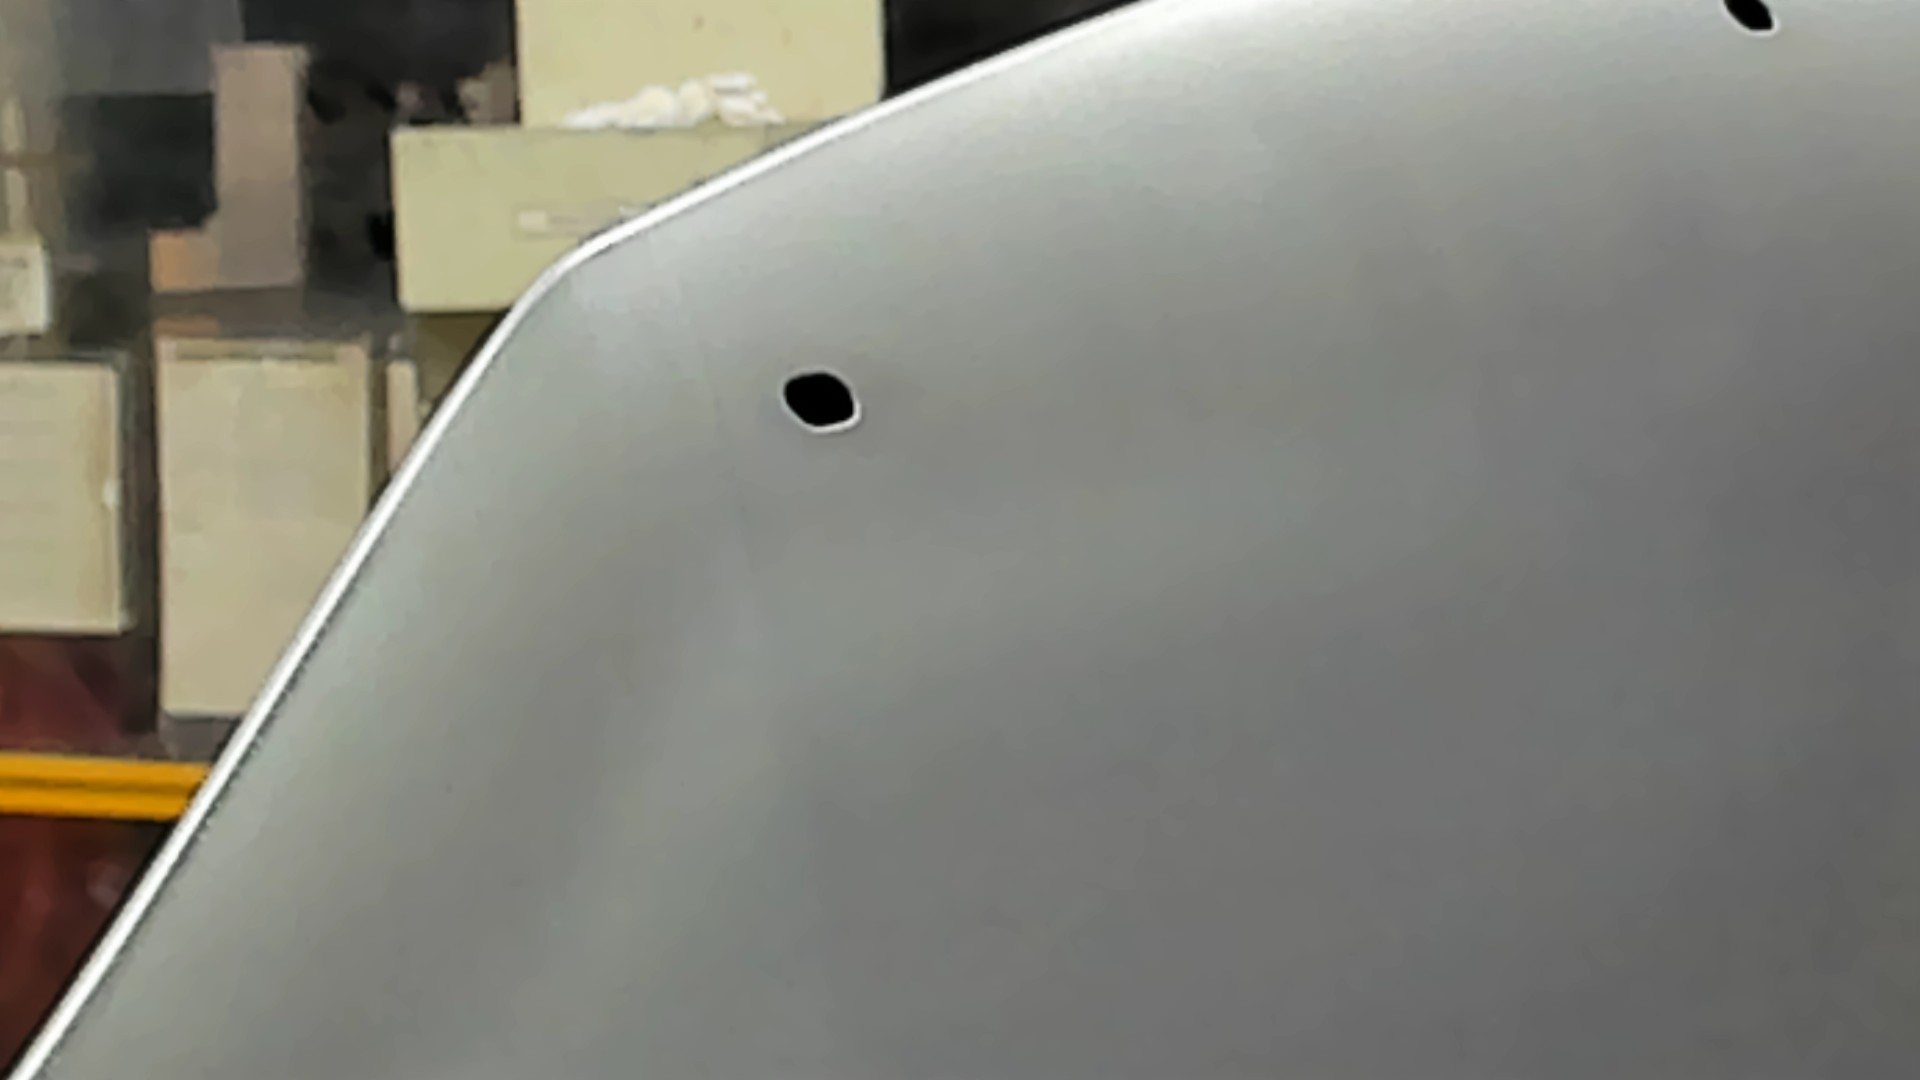amorfo: (770, 364, 874, 436), (1706, 1, 1787, 45)
capo: (977, 98, 1920, 1080)
